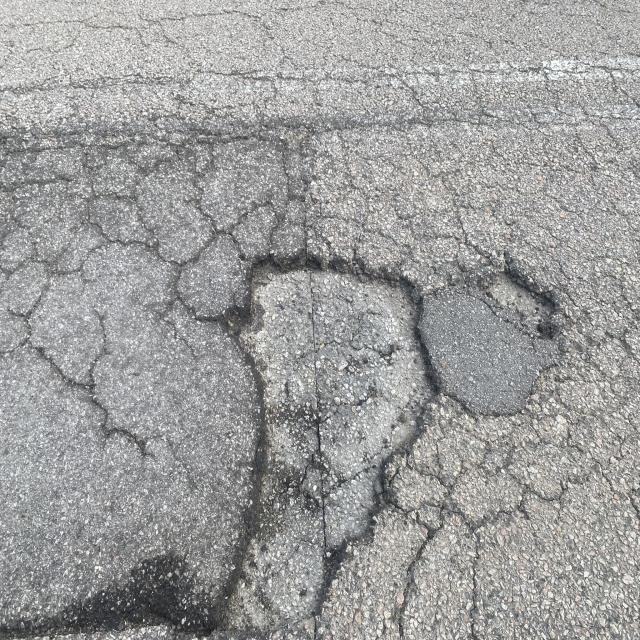pothole: (204, 197, 582, 640)
